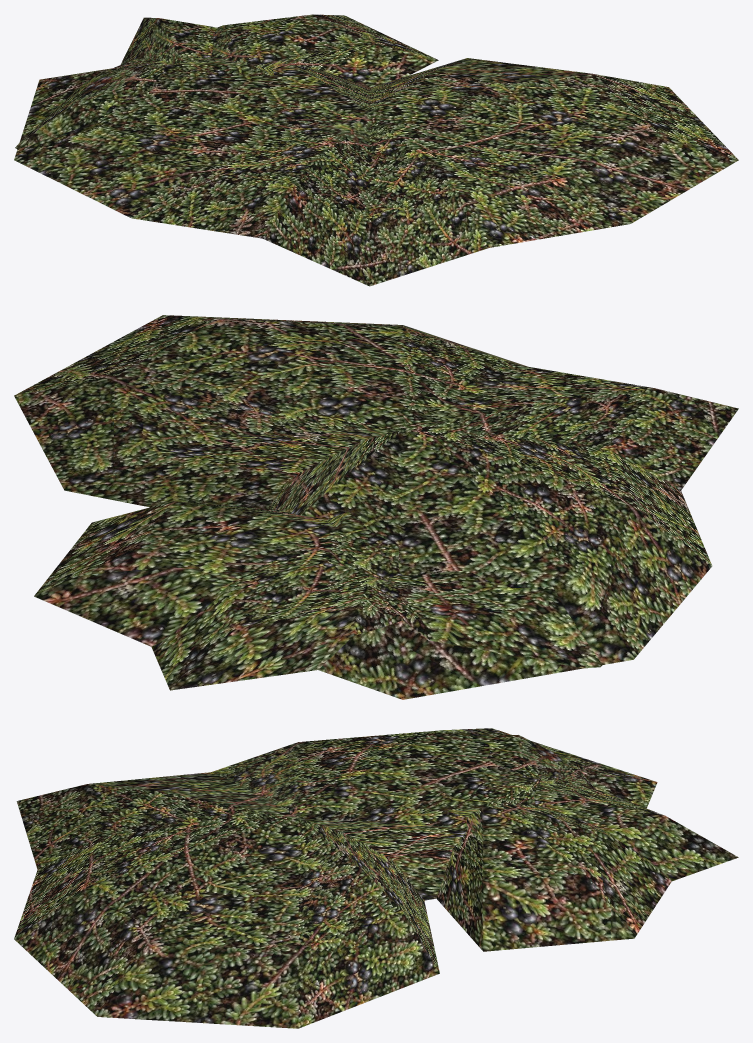
Rendered from veg_crowberry.glb.
3 renders of one model, top to bottom at view 1: azimuth 30°, elevation 25°; view 2: azimuth 150°, elevation 25°; view 3: azimuth 270°, elevation 25°, orthographic. The views are drawn at different scales.
Parts seen in each view (by area): view 1: veg_crowberry; view 2: veg_crowberry; view 3: veg_crowberry.
Part boxes in pixels (<box>): veg_crowberry: <box>14,14,738,286</box>; veg_crowberry: <box>14,315,738,699</box>; veg_crowberry: <box>14,728,738,1028</box>.
Size of the model in its own units: 1.4 by 0.11 by 1.43.
Materials: 1 (1 with a texture image).
